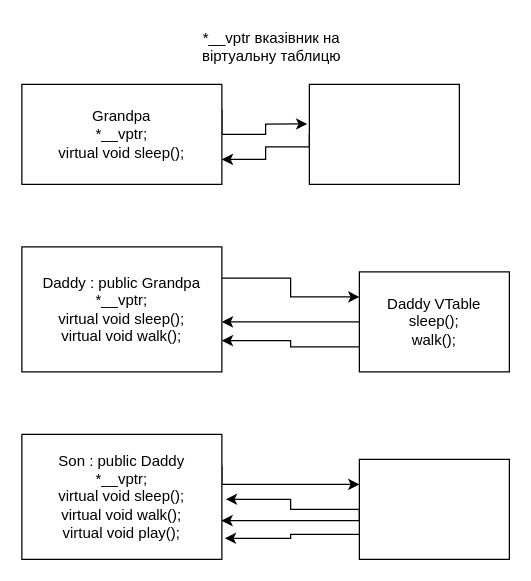
The diagram is 531 pixels wide and 581 high, and some of its shapes have lost their labels. The shapes that lost their labels are listed below. From the top down, each one's centre as x and y in pixels, then its label:
At (383,133): "Grandpa VTable sleep();".
At (433,508): "Son VTable sleep(); walk(); play();".
